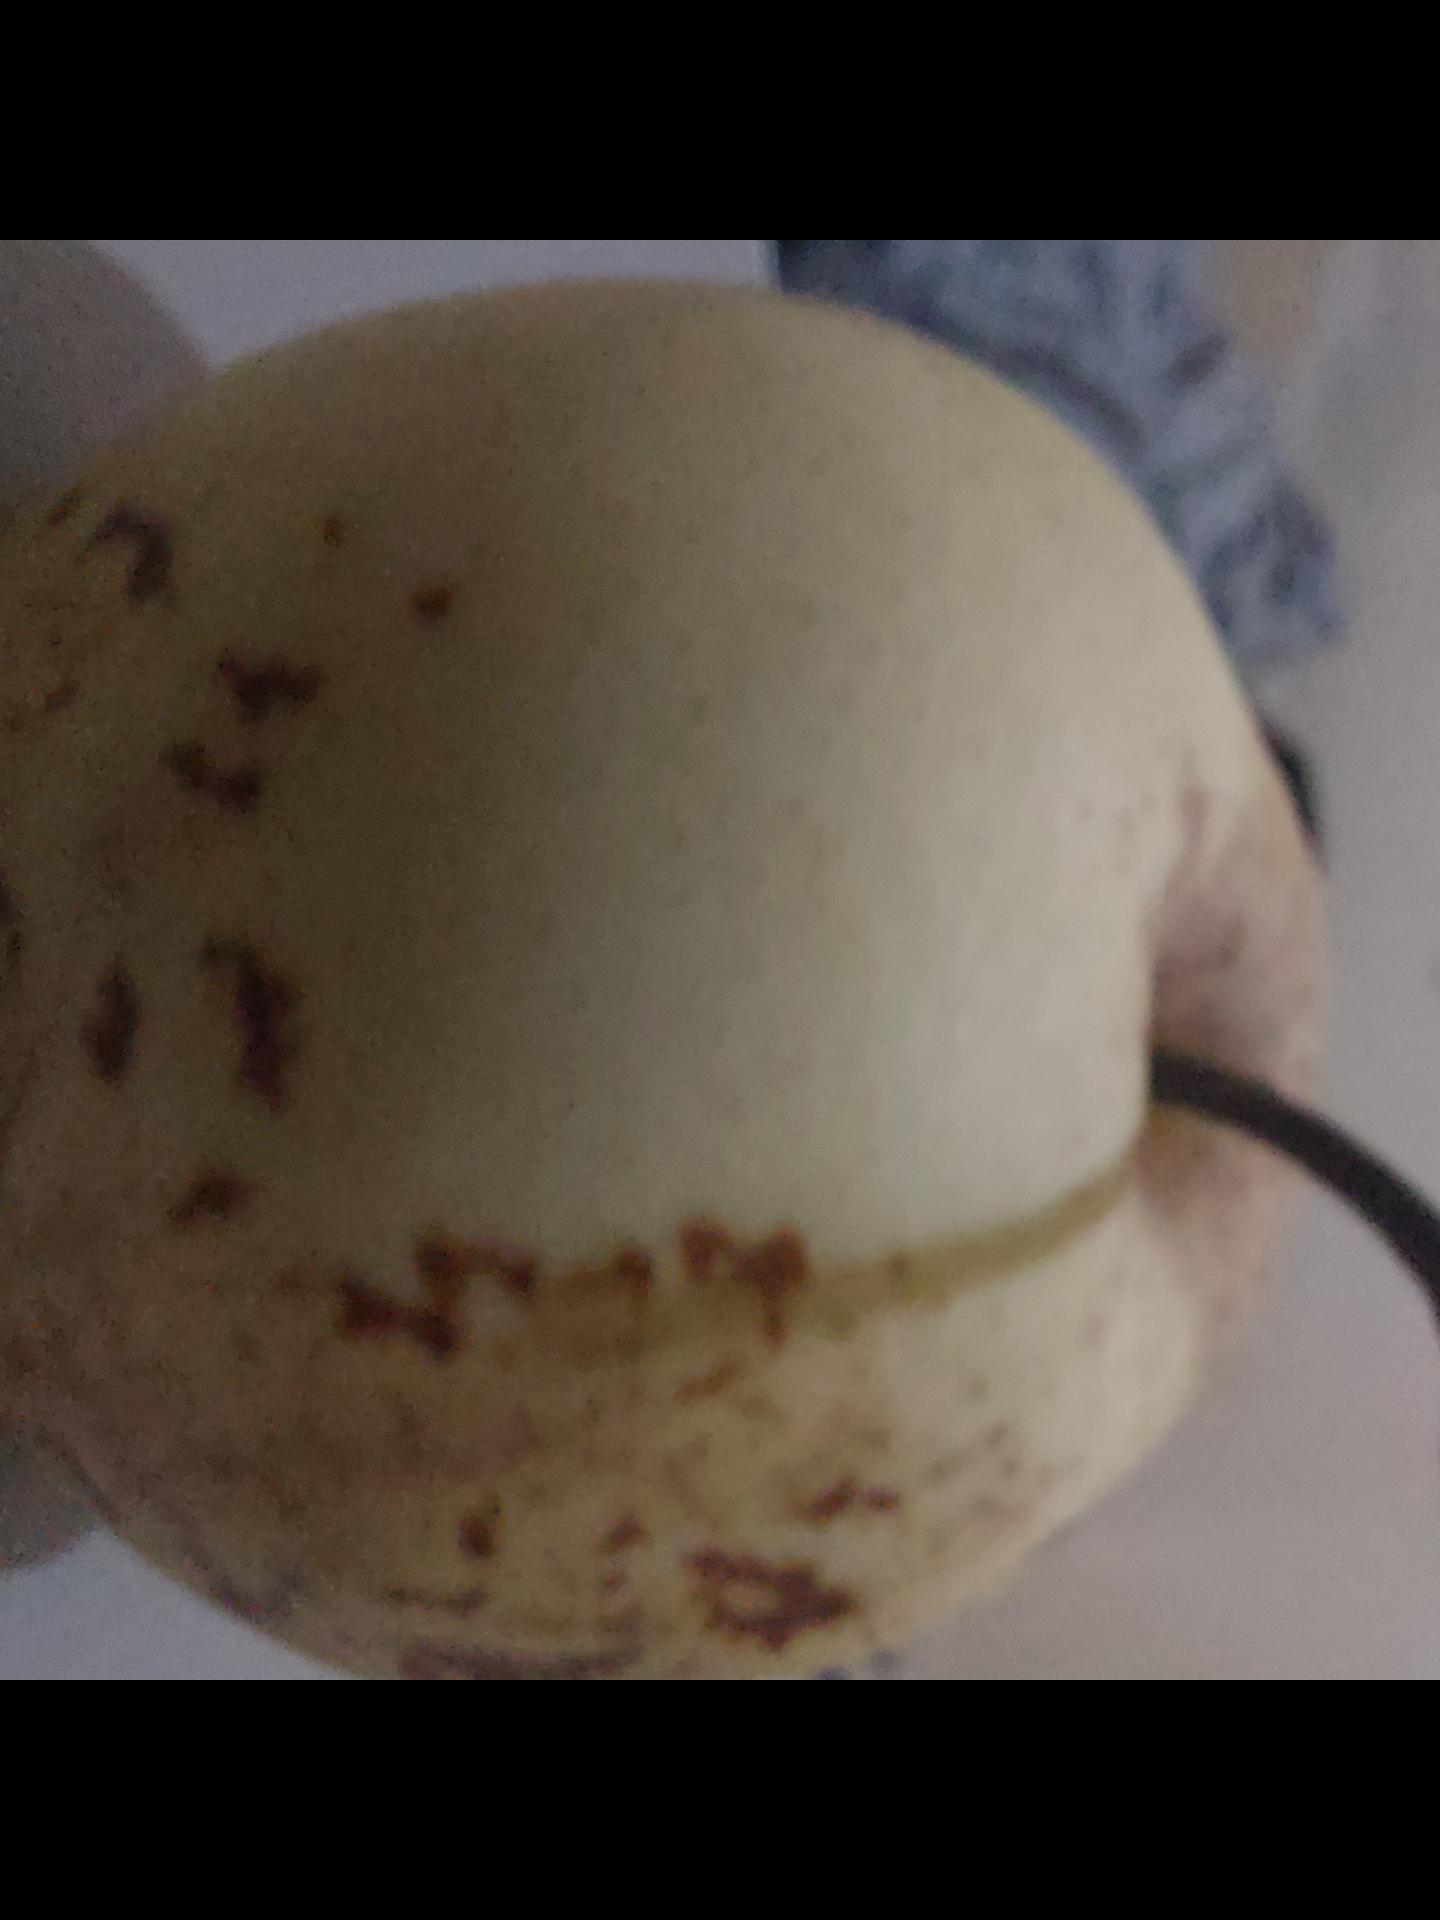Bad Pear: (0, 281, 1376, 1680)
